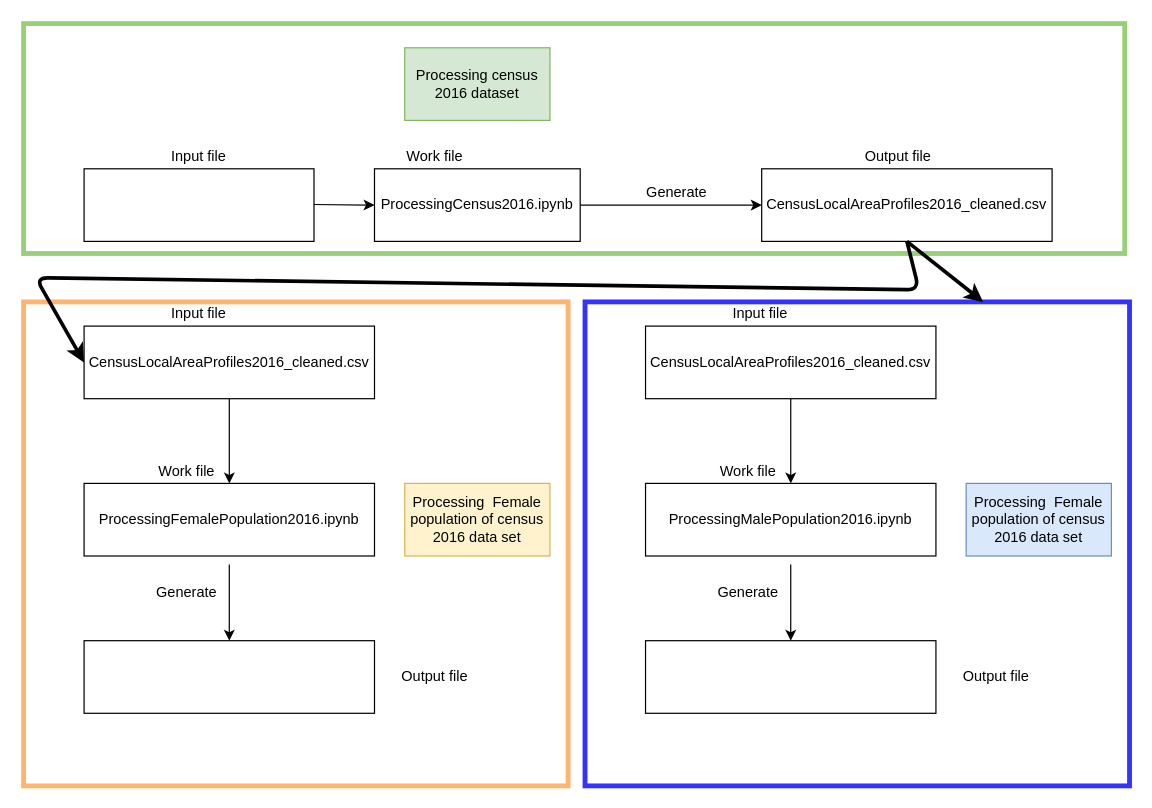
Some shapes in this 1152 by 808 pixel diagram are drawn without their labels. The shapes that lost their labels are listed below. From the top down, each one's centre as x and y in pixels, then its label:
At (198,204): "CensusLocalAreaProfiles2016.csv".
At (228,676): "FemalePopulationDataset_cleaned.csv".
At (790,676): "MalePopulationDataset_cleaned.csv".
